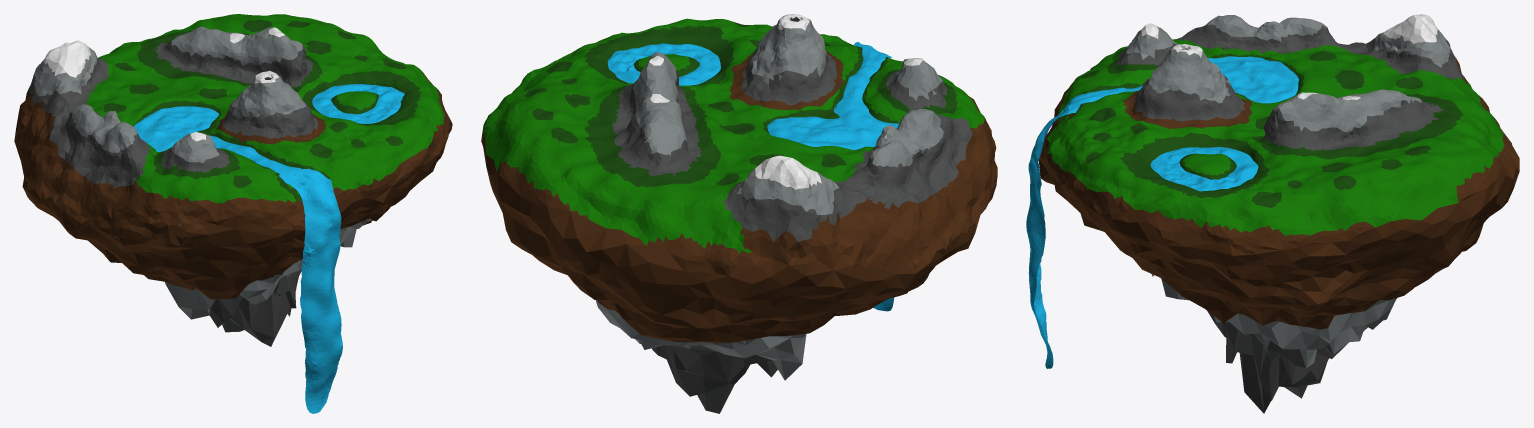
Rendered from HauptweltFertig2.fbx.
3 renders of one model, left to right at view 1: azimuth 30°, elevation 25°; view 2: azimuth 150°, elevation 25°; view 3: azimuth 270°, elevation 25°, orthographic. The views are drawn at different scales.
Parts seen in each view (by area): view 1: WeltSmart.001, WasserSmart.001; view 2: WeltSmart.001, WasserSmart.001; view 3: WeltSmart.001, WasserSmart.001.
Boxes of the visible parts, x1=… form: WeltSmart.001: x1=14, y1=14, x2=452, y2=346; WasserSmart.001: x1=134, y1=84, x2=404, y2=413; WeltSmart.001: x1=481, y1=14, x2=997, y2=413; WasserSmart.001: x1=607, y1=42, x2=898, y2=311; WeltSmart.001: x1=1038, y1=14, x2=1519, y2=413; WasserSmart.001: x1=1026, y1=56, x2=1298, y2=368.
Bounding box in the file's own units: 71748 × 56024 × 72257.
